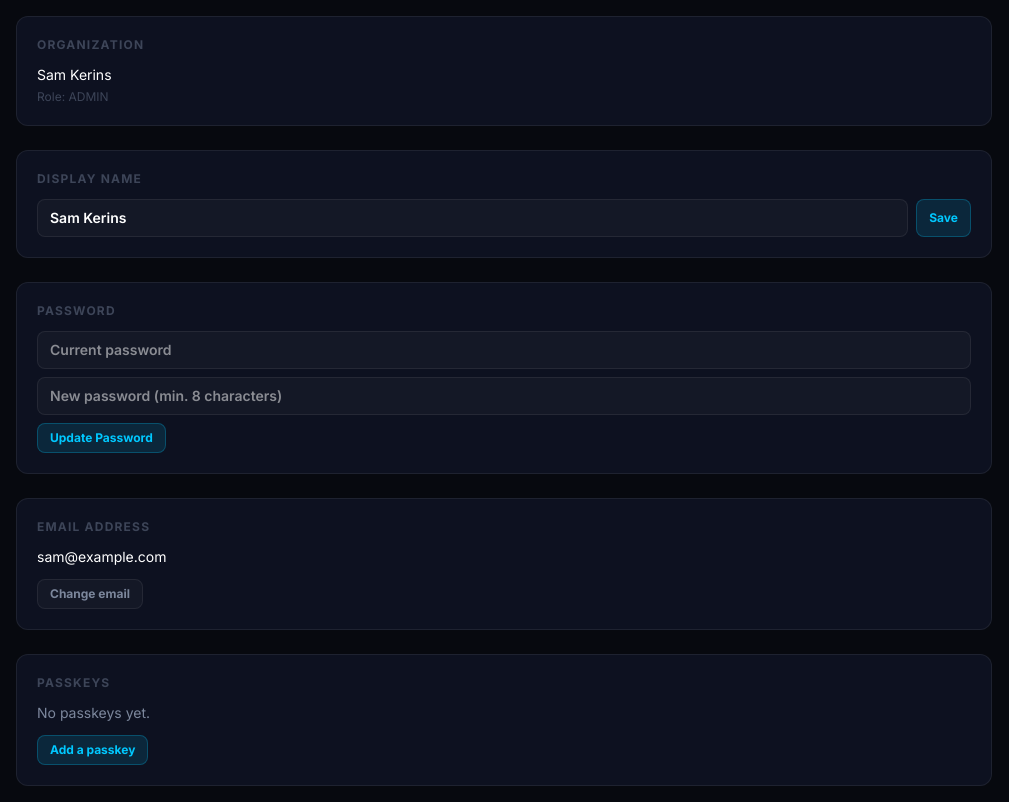
Scenario: AccountPage › saves a new display name via DisplayNameCard
Replace the text in the field showing "Sam Kerins" with "Samuel Kerins". click: (473, 218)
box: [37,199,908,237]
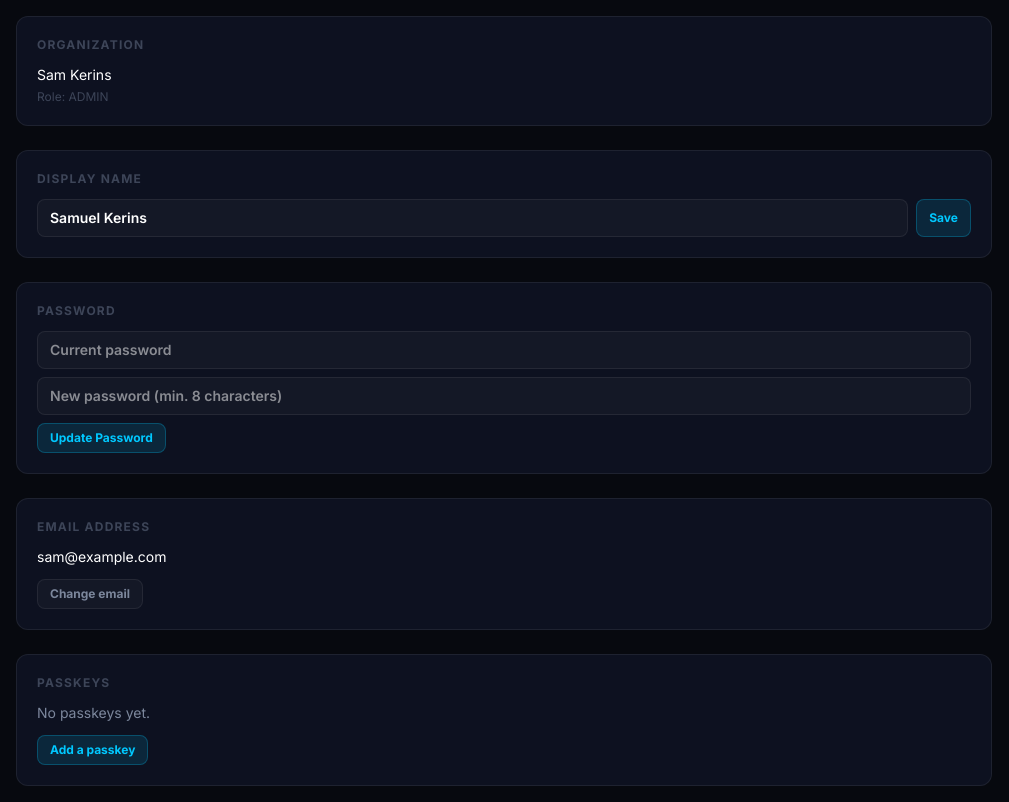
Click the button "Save". click: (944, 218)
box: [916,199,971,237]
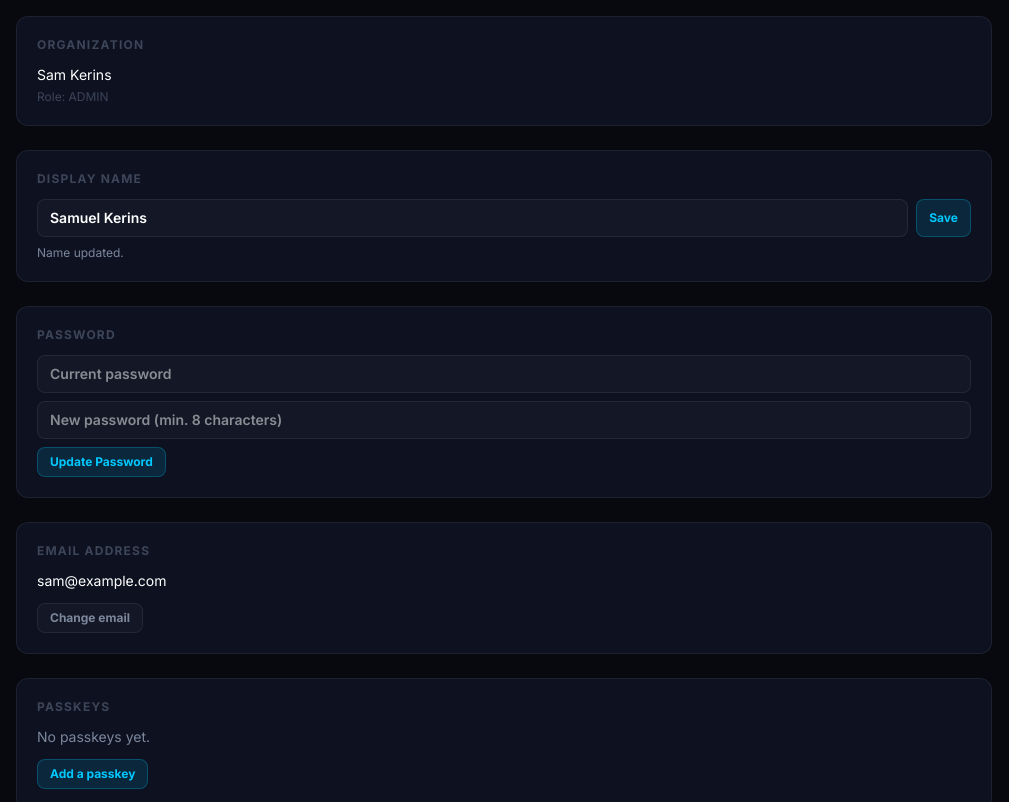
Expected: the text "Name updated." is shown, [37,245,124,260]
